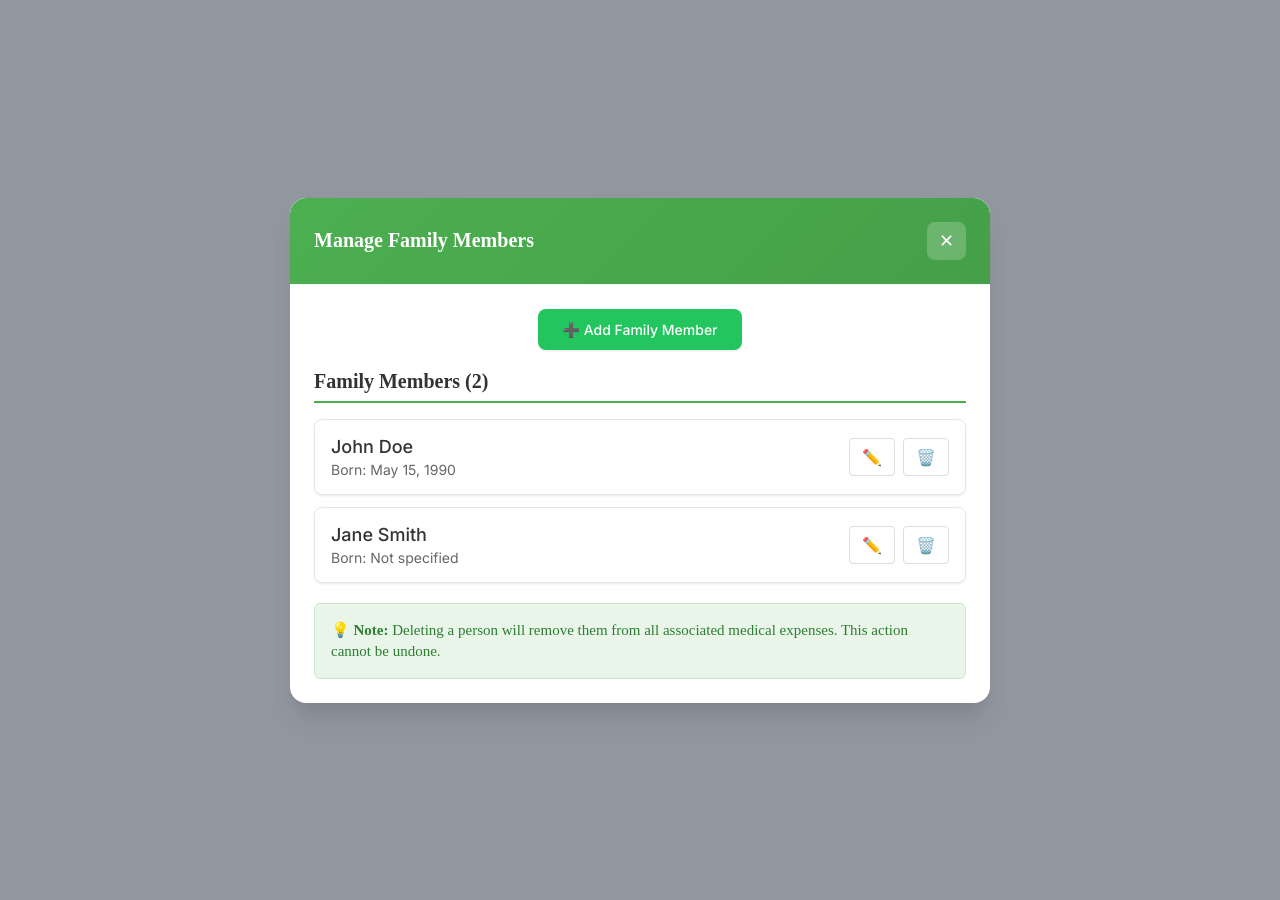
Test: PeopleManagementModal › Person Editing › should show edit form when edit button is clicked
Expected: the text "John Doe" is shown, [331,436,413,456]
// Click edit button for first person
Click the button titled "Edit person" in the row of "May 15, 1990". click: (872, 456)
box: [849,438,895,476]
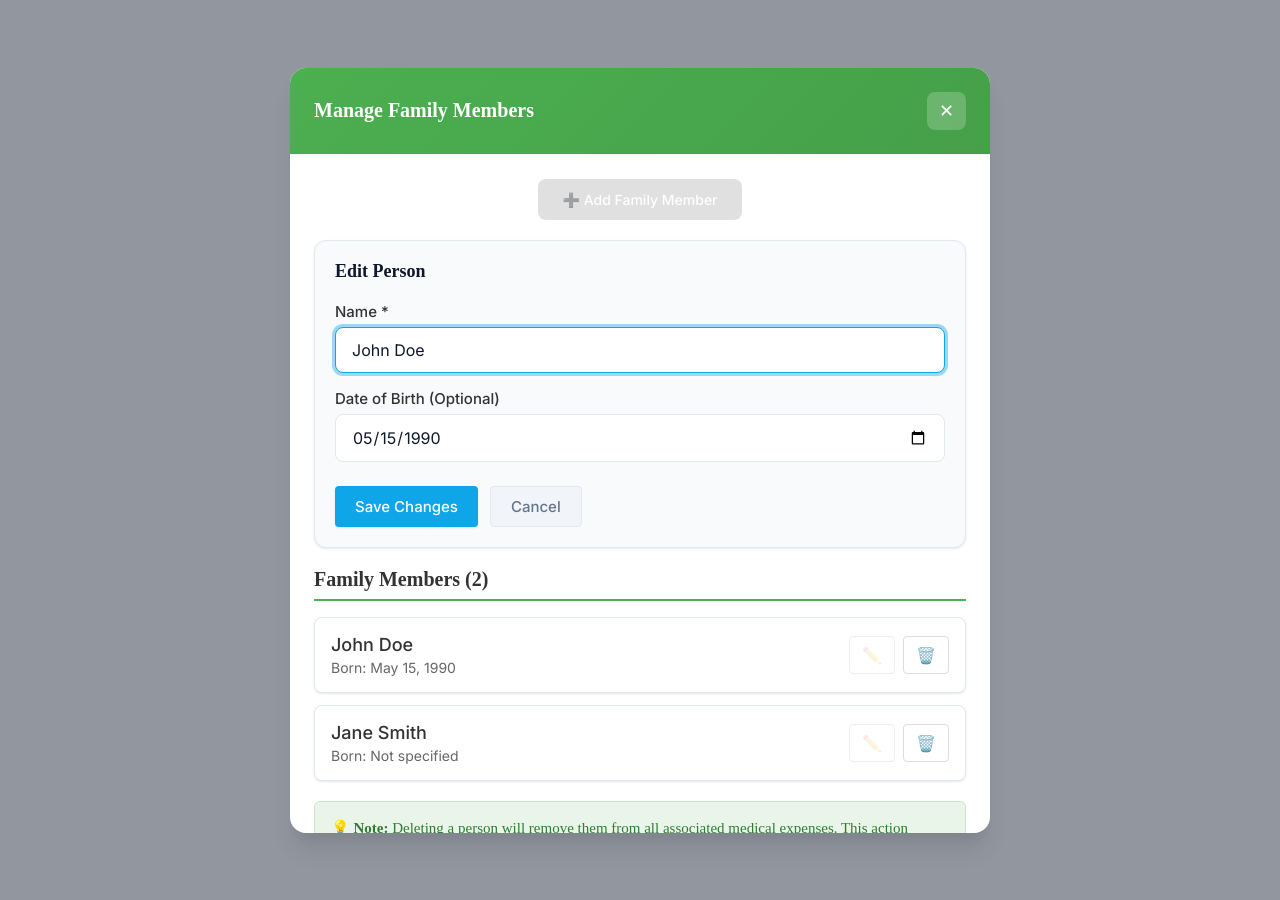
Expected: the heading "Edit Person" is shown, [335,260,426,280]
Expected: the field showing "John Doe" is shown, [335,326,945,372]
Expected: the date field showing "1990-05-15" is shown, [335,414,945,462]
